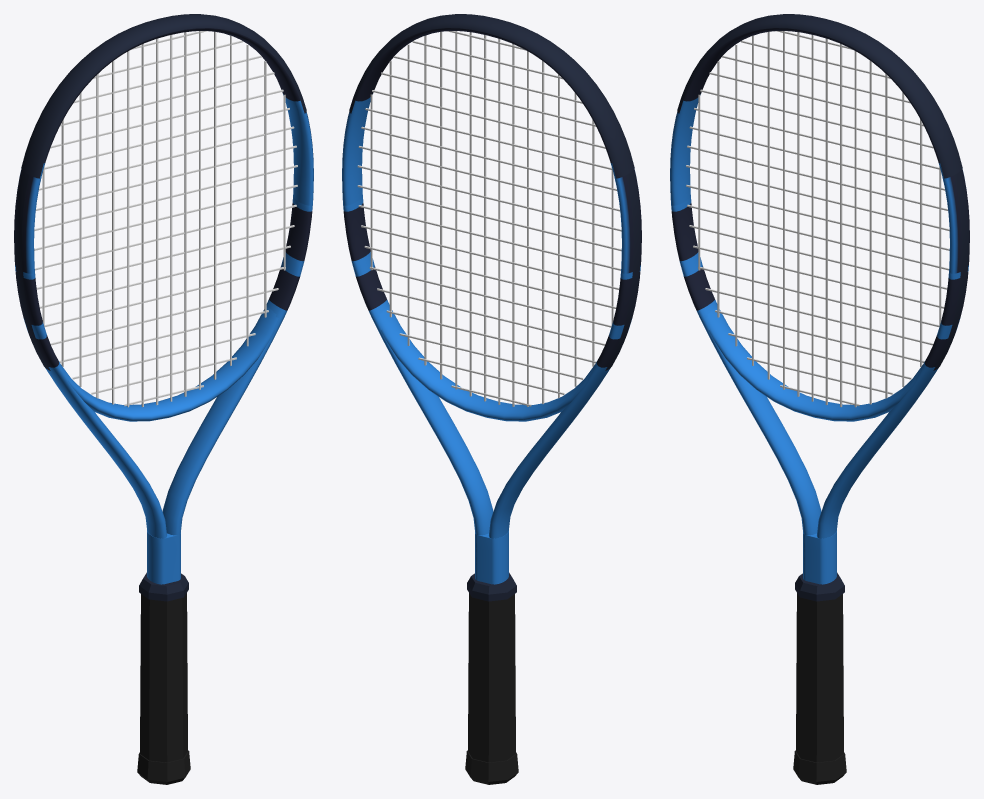
File: babolat-pure-drive-junior-26-2020.glb
The picture shows the model from 3 angles, left to right: view 1: azimuth 30°, elevation 25°; view 2: azimuth 150°, elevation 25°; view 3: azimuth 330°, elevation 25°; orthographic projection.
Parts seen in each view (by area): view 1: frame, strings_mains, strings_crosses, grip, bumper, grommets, butt_cap, collar; view 2: frame, strings_mains, strings_crosses, grip, bumper, grommets, butt_cap, collar; view 3: frame, strings_mains, strings_crosses, grip, bumper, grommets, butt_cap, collar.
Part boxes in pixels (<box>): frame: <box>14,28,313,584</box>; strings_mains: <box>42,31,285,407</box>; strings_crosses: <box>34,31,297,406</box>; grip: <box>140,593,187,762</box>; bumper: <box>21,14,306,178</box>; grommets: <box>15,170,50,370</box>; butt_cap: <box>137,750,190,784</box>; collar: <box>139,572,188,601</box>; frame: <box>342,28,641,584</box>; strings_mains: <box>370,31,613,406</box>; strings_crosses: <box>357,31,621,406</box>; grip: <box>468,593,515,762</box>; bumper: <box>349,14,634,178</box>; grommets: <box>605,170,640,370</box>; butt_cap: <box>465,750,518,784</box>; collar: <box>467,572,516,601</box>; frame: <box>670,28,969,584</box>; strings_mains: <box>698,31,941,407</box>; strings_crosses: <box>686,31,949,406</box>; grip: <box>796,593,843,762</box>; bumper: <box>677,14,962,178</box>; grommets: <box>933,170,968,370</box>; butt_cap: <box>793,750,846,784</box>; collar: <box>795,572,844,601</box>.
Bounding box in the file's own units: 0.2678 × 0.6607 × 0.0396.
